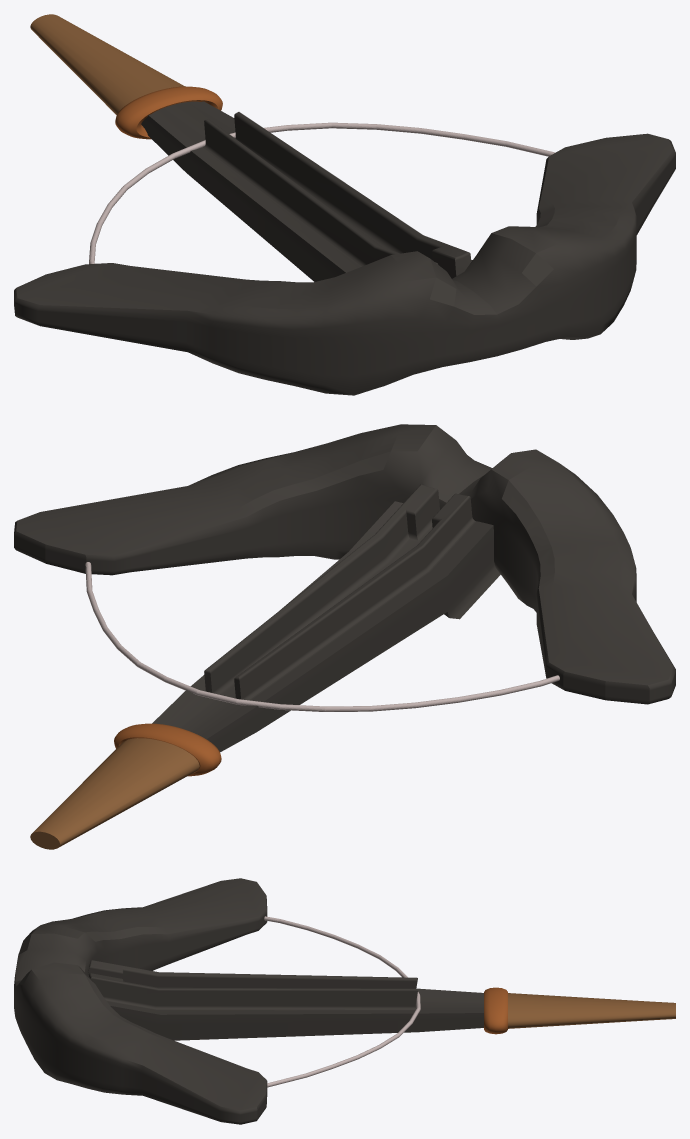
File: Ballesta.fbx
3 renders of one model, top to bottom at view 1: azimuth 30°, elevation 25°; view 2: azimuth 150°, elevation 25°; view 3: azimuth 270°, elevation 25°, orthographic. The views are drawn at different scales.
Parts seen in each view (by area): view 1: Cylinder; view 2: Cylinder; view 3: Cylinder.
Part boxes in pixels (x1=…): Cylinder: x1=14, y1=14, x2=675, y2=395; Cylinder: x1=14, y1=424, x2=675, y2=849; Cylinder: x1=14, y1=878, x2=675, y2=1124.
Bounding box in the file's own units: 349 × 61.24 × 417.
